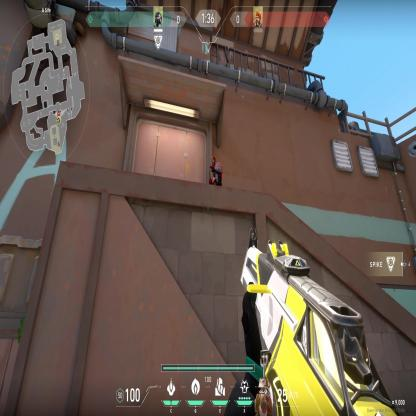enemy: (207, 154, 223, 186)
